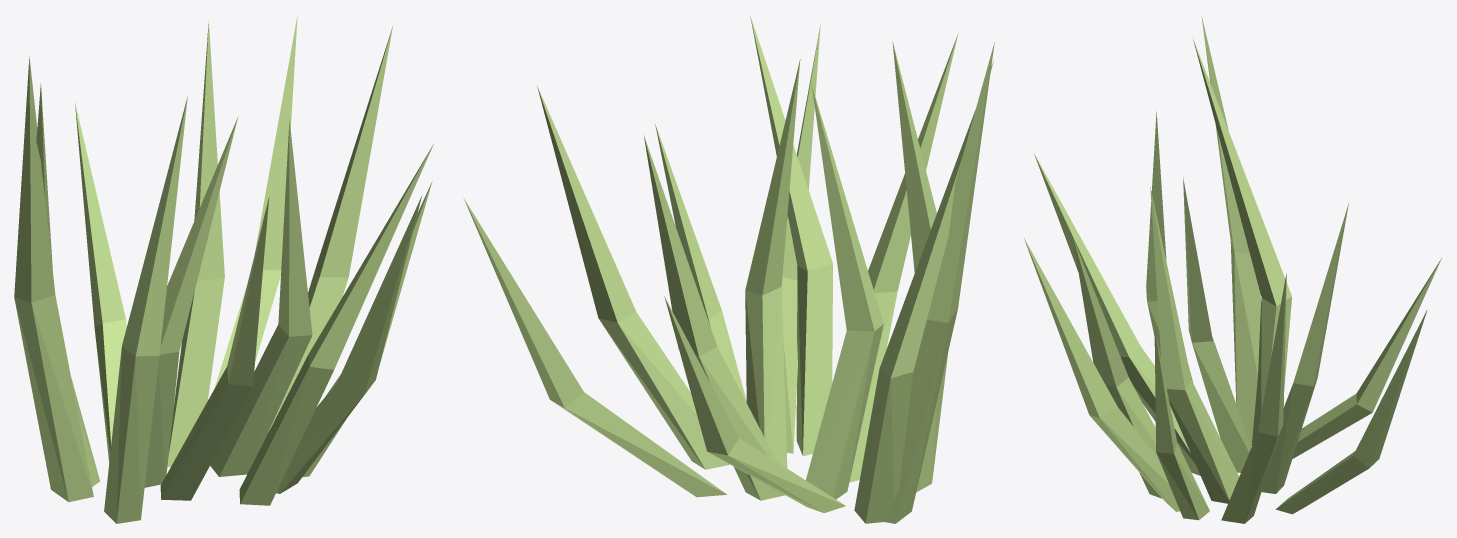
The model's file is grass.glb.
3 renders of one model, left to right at view 1: azimuth 30°, elevation 25°; view 2: azimuth 150°, elevation 25°; view 3: azimuth 270°, elevation 25°, orthographic. The views are drawn at different scales.
Visible parts, largest first — view 1: mesh1478955019, mesh1354063860, mesh883053433, mesh961515343, mesh149050868, mesh949972352, mesh838631015, mesh732216278, mesh1087128645, mesh268584861, mesh1186155763, mesh1660468851 (+1 smaller); view 2: mesh838631015, mesh1087128645, mesh1660468851, mesh883053433, mesh961515343, mesh1478955019, mesh1186155763, mesh149050868, mesh268584861, mesh949972352, mesh1354063860, mesh732216278 (+1 smaller); view 3: mesh883053433, mesh1660468851, mesh1478955019, mesh732216278, mesh838631015, mesh949972352, mesh149050868, mesh1087128645, mesh961515343, mesh1186155763, mesh268584861, mesh1625344367 (+1 smaller).
Part boxes in pixels (<box>): mesh1478955019: <box>14,56,93,501</box>; mesh1354063860: <box>104,95,187,523</box>; mesh883053433: <box>210,118,312,476</box>; mesh961515343: <box>239,144,433,505</box>; mesh149050868: <box>167,21,224,466</box>; mesh949972352: <box>160,196,269,500</box>; mesh838631015: <box>144,116,238,487</box>; mesh732216278: <box>276,196,421,493</box>; mesh1087128645: <box>267,26,392,434</box>; mesh268584861: <box>75,103,126,462</box>; mesh1186155763: <box>214,15,297,388</box>; mesh1660468851: <box>36,84,99,486</box>; mesh838631015: <box>806,85,883,499</box>; mesh1087128645: <box>537,85,729,469</box>; mesh1660468851: <box>854,60,993,523</box>; mesh883053433: <box>745,59,800,468</box>; mesh961515343: <box>750,16,832,456</box>; mesh1478955019: <box>884,42,994,523</box>; mesh1186155763: <box>463,198,727,497</box>; mesh149050868: <box>644,136,784,500</box>; mesh268584861: <box>664,296,845,512</box>; mesh949972352: <box>849,33,958,482</box>; mesh1354063860: <box>892,42,948,492</box>; mesh732216278: <box>781,24,820,453</box>; mesh883053433: <box>1150,187,1239,503</box>; mesh1660468851: <box>1193,38,1291,445</box>; mesh1478955019: <box>1201,16,1260,445</box>; mesh732216278: <box>1024,238,1179,511</box>; mesh838631015: <box>1183,177,1251,472</box>; mesh949972352: <box>1034,153,1200,475</box>; mesh149050868: <box>1261,203,1348,493</box>; mesh1087128645: <box>1221,273,1286,523</box>; mesh961515343: <box>1073,238,1162,498</box>; mesh1186155763: <box>1275,310,1427,514</box>; mesh268584861: <box>1292,258,1441,458</box>; mesh1625344367: <box>1154,328,1209,520</box>.
Bounding box in the file's own units: 0.1573 × 0.1731 × 0.1662.
